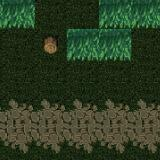Obstacle: (35, 29, 67, 61)
Slow: (66, 29, 132, 62), (99, 0, 160, 30), (0, 0, 34, 29)
